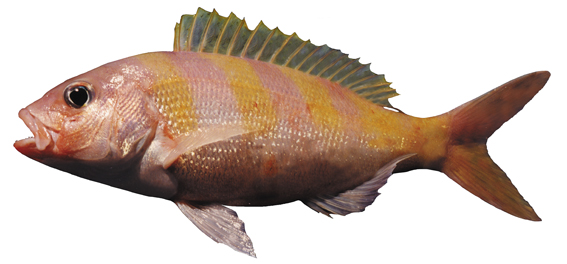fish: (13, 6, 551, 259)
